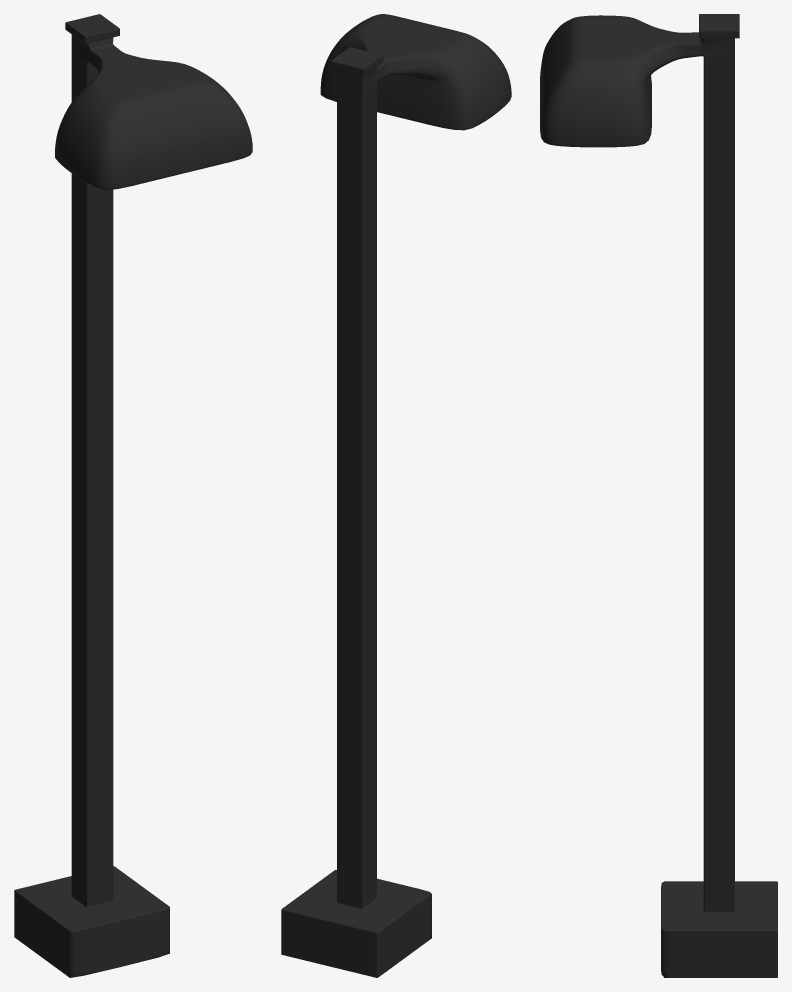
The model's file is lamp.glb.
3 views of the same model, side by side, from view 1: azimuth 30°, elevation 25°; view 2: azimuth 150°, elevation 25°; view 3: azimuth 270°, elevation 25° (orthographic). The views are drawn at different scales.
Visible parts, largest first — view 1: Lamp3; view 2: Lamp3; view 3: Lamp3.
Boxes of the visible parts, left/top/right/bottom form: Lamp3: left=14, top=14, right=252, bottom=977; Lamp3: left=281, top=14, right=511, bottom=977; Lamp3: left=540, top=14, right=777, bottom=977.
Bounding box in the file's own units: 0.03 × 0.1617 × 0.0374.
2 materials, 1 textured.
